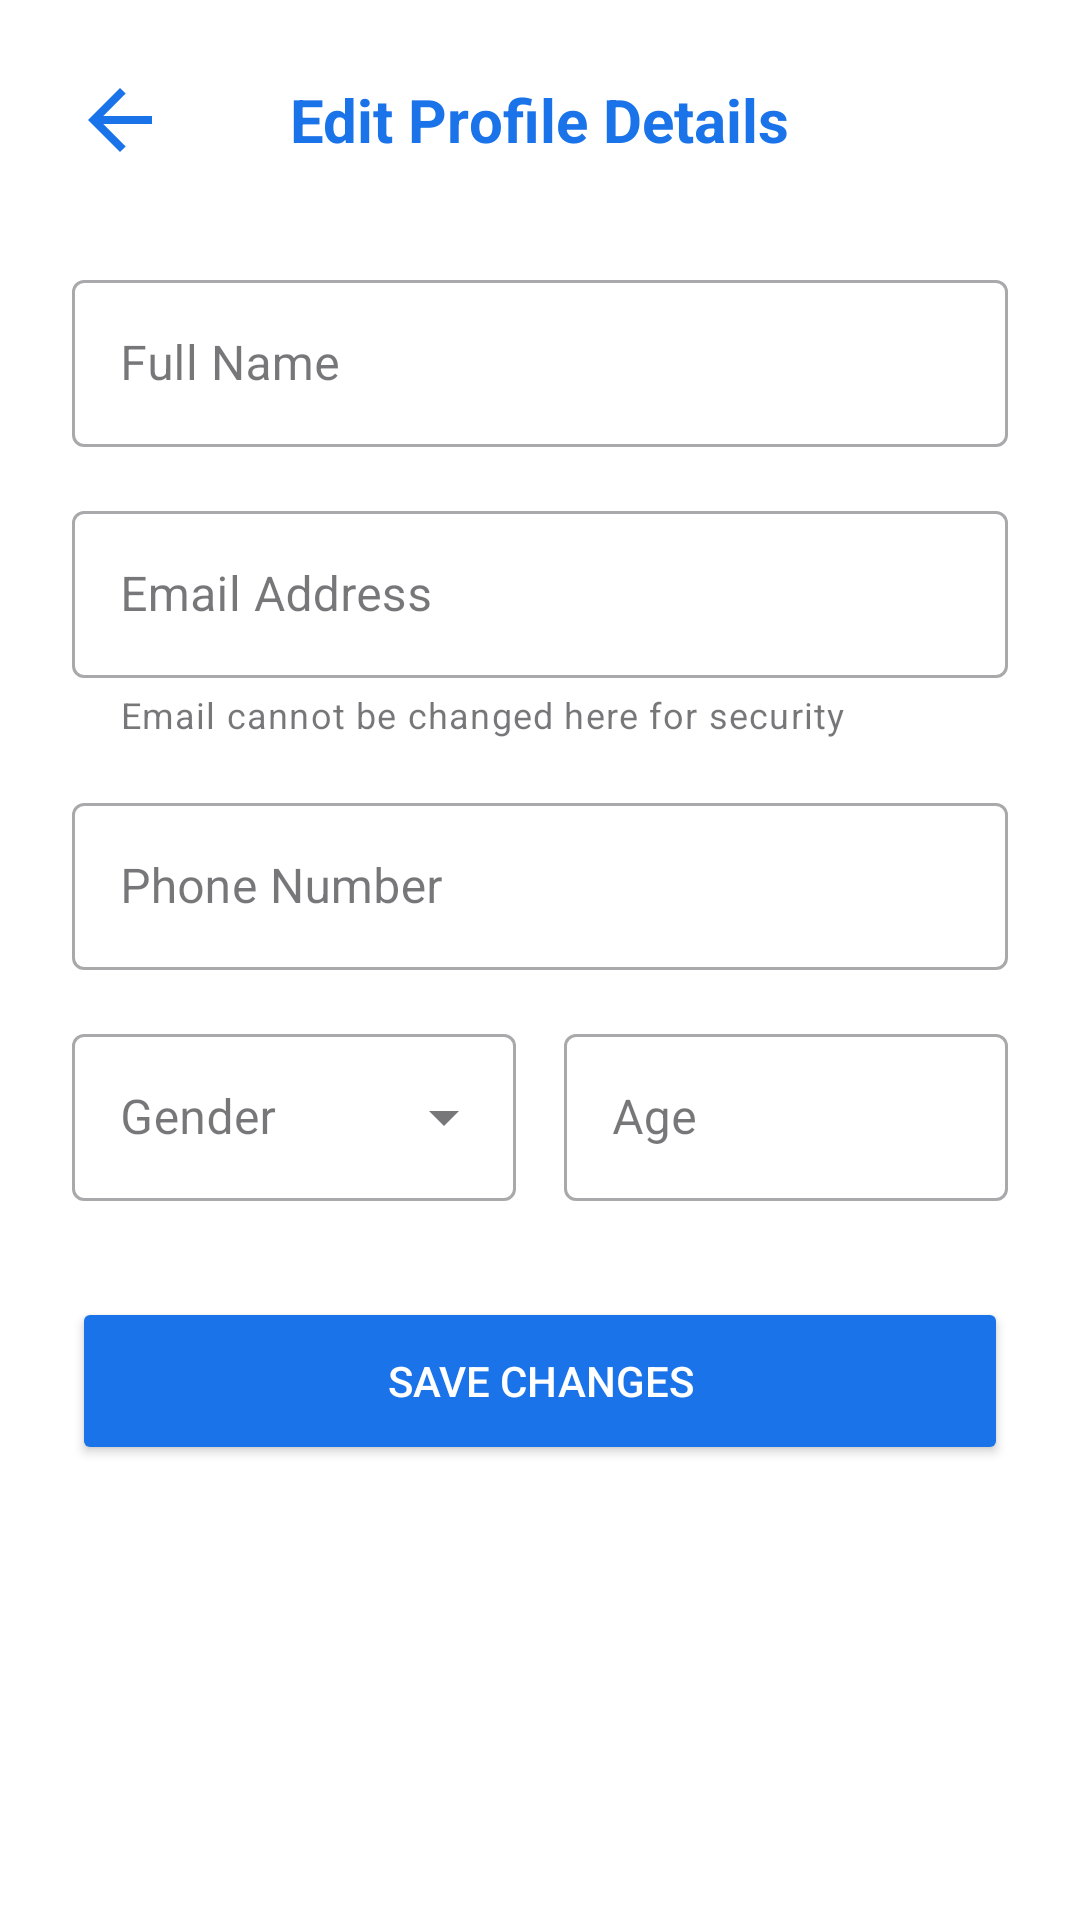

Icons on this 1080 × 1920 Android screen, each with the point to tap as (x,y):
arrow back: (120,120)
